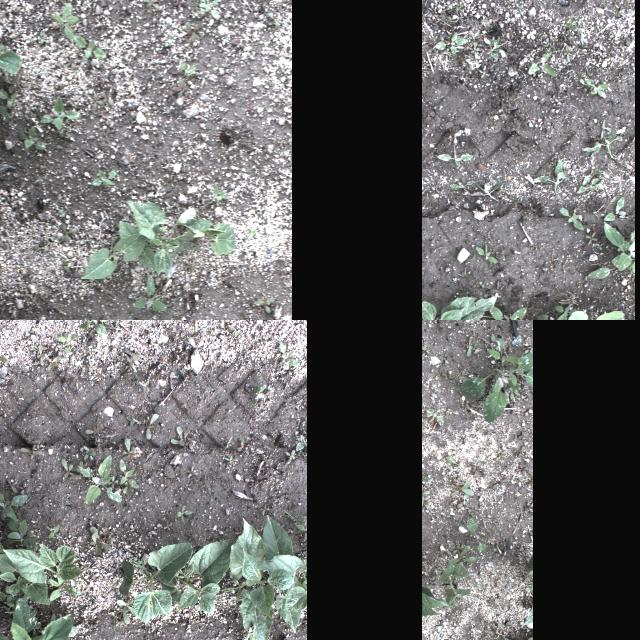crop: (221, 516, 306, 640), (459, 333, 533, 423), (118, 542, 194, 624), (162, 538, 234, 616), (126, 200, 196, 276), (80, 222, 158, 278), (1, 544, 79, 586), (422, 526, 449, 640), (173, 209, 237, 257), (0, 553, 50, 604), (422, 292, 497, 320), (568, 309, 630, 320)
weed: (0, 591, 76, 640), (76, 454, 126, 506), (587, 224, 635, 278), (0, 482, 36, 550), (0, 0, 22, 85), (438, 543, 477, 585), (40, 96, 80, 132), (134, 276, 170, 312), (533, 160, 569, 194), (581, 132, 623, 160), (48, 1, 80, 36), (583, 150, 607, 186), (86, 528, 114, 558), (68, 36, 106, 58), (438, 143, 472, 167), (48, 577, 82, 601), (466, 516, 488, 552), (15, 126, 45, 152), (434, 32, 468, 54), (110, 598, 134, 628), (119, 459, 138, 496), (190, 0, 221, 22), (87, 86, 113, 112), (602, 196, 628, 222), (447, 584, 473, 610), (528, 53, 556, 77), (470, 180, 500, 202), (488, 304, 529, 320), (183, 20, 210, 44), (36, 344, 60, 370), (78, 320, 114, 336), (249, 295, 277, 315), (280, 340, 298, 370), (560, 207, 584, 229), (172, 59, 200, 77), (537, 38, 565, 56), (82, 421, 105, 442), (92, 170, 116, 190), (586, 79, 610, 99), (474, 244, 498, 264), (611, 250, 635, 270), (170, 425, 190, 449), (286, 510, 306, 534), (142, 414, 160, 440), (576, 178, 604, 194), (58, 258, 78, 280), (174, 504, 194, 526), (553, 303, 578, 320), (488, 36, 507, 58), (619, 246, 635, 272), (252, 379, 268, 405), (46, 522, 66, 542), (454, 478, 474, 498), (56, 225, 78, 243), (447, 0, 465, 22), (124, 347, 138, 375), (60, 454, 76, 478), (122, 434, 138, 458), (186, 336, 202, 359), (449, 180, 475, 194), (264, 12, 284, 30), (56, 334, 74, 354), (428, 408, 448, 426), (618, 230, 634, 252), (0, 85, 16, 106), (171, 80, 189, 98), (230, 322, 247, 341), (567, 15, 583, 35), (212, 183, 226, 203), (22, 442, 42, 456), (238, 436, 252, 456), (238, 624, 255, 640), (466, 333, 476, 359), (30, 241, 48, 255), (82, 444, 96, 462), (138, 378, 150, 399), (495, 446, 509, 464), (293, 433, 305, 453), (5, 473, 17, 493), (422, 489, 434, 509), (140, 0, 163, 10), (63, 57, 79, 71), (602, 118, 612, 140), (184, 262, 198, 276), (285, 448, 299, 462), (256, 504, 270, 518), (160, 36, 176, 48), (224, 453, 236, 469), (525, 314, 556, 320), (38, 28, 48, 46), (470, 41, 480, 59), (586, 232, 598, 246), (125, 414, 137, 428), (185, 466, 199, 478), (422, 469, 431, 487), (445, 456, 461, 466), (422, 344, 432, 359), (207, 486, 219, 498), (41, 425, 53, 437), (517, 444, 527, 458), (563, 46, 571, 62), (478, 65, 487, 79), (57, 207, 67, 219), (164, 522, 174, 534), (0, 352, 8, 367), (516, 2, 524, 16), (190, 515, 198, 529), (223, 439, 233, 449), (580, 79, 592, 87), (246, 228, 256, 236), (458, 268, 466, 278), (604, 8, 616, 14), (214, 466, 220, 476), (568, 72, 574, 80), (484, 290, 490, 298), (173, 320, 189, 323), (596, 243, 602, 250), (448, 136, 452, 146), (422, 257, 427, 265), (566, 254, 572, 260), (478, 281, 484, 287), (618, 10, 622, 18), (500, 286, 506, 290), (432, 142, 436, 144)
